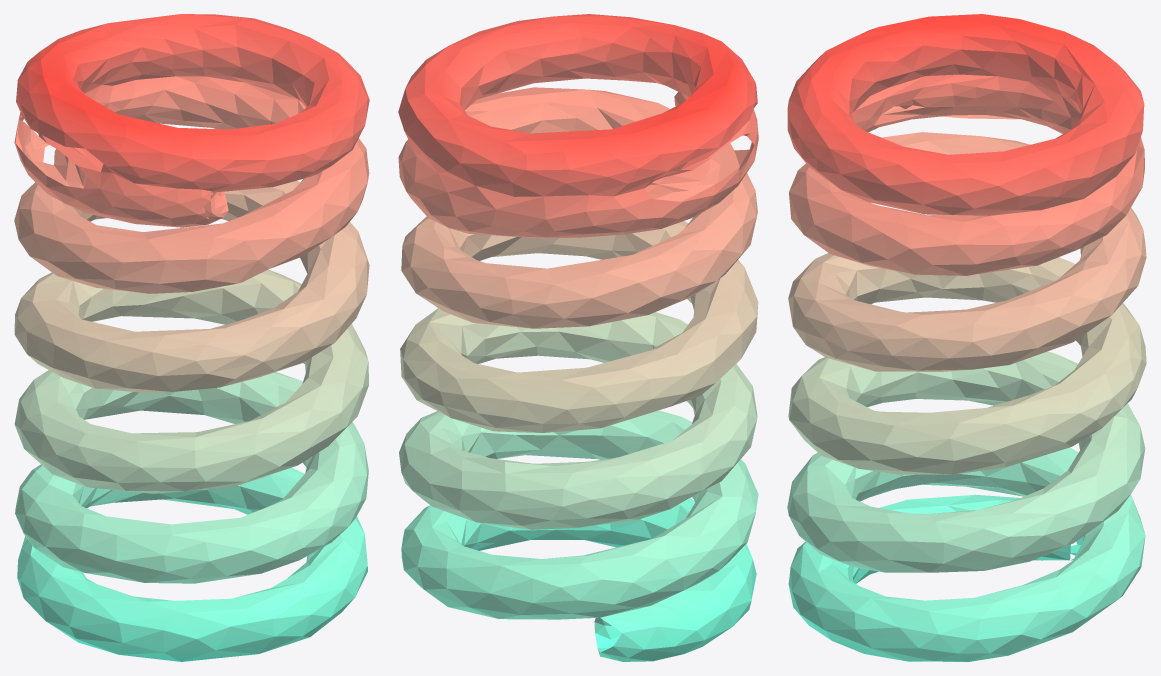
The model's file is 18_cyb_laser_gradient_fish_scales_2818_2026_10_03_d1ceb1.glb.
3 views of the same model, side by side, from view 1: azimuth 30°, elevation 25°; view 2: azimuth 150°, elevation 25°; view 3: azimuth 270°, elevation 25° (orthographic).
Parts seen in each view (by area): view 1: geometry_0; view 2: geometry_0; view 3: geometry_0.
Boxes of the visible parts, <box> form: geometry_0: <box>14,14,369,661</box>; geometry_0: <box>398,14,758,661</box>; geometry_0: <box>787,14,1146,661</box>.
Bounding box in the file's own units: 0.5611 × 0.9281 × 0.5625.
